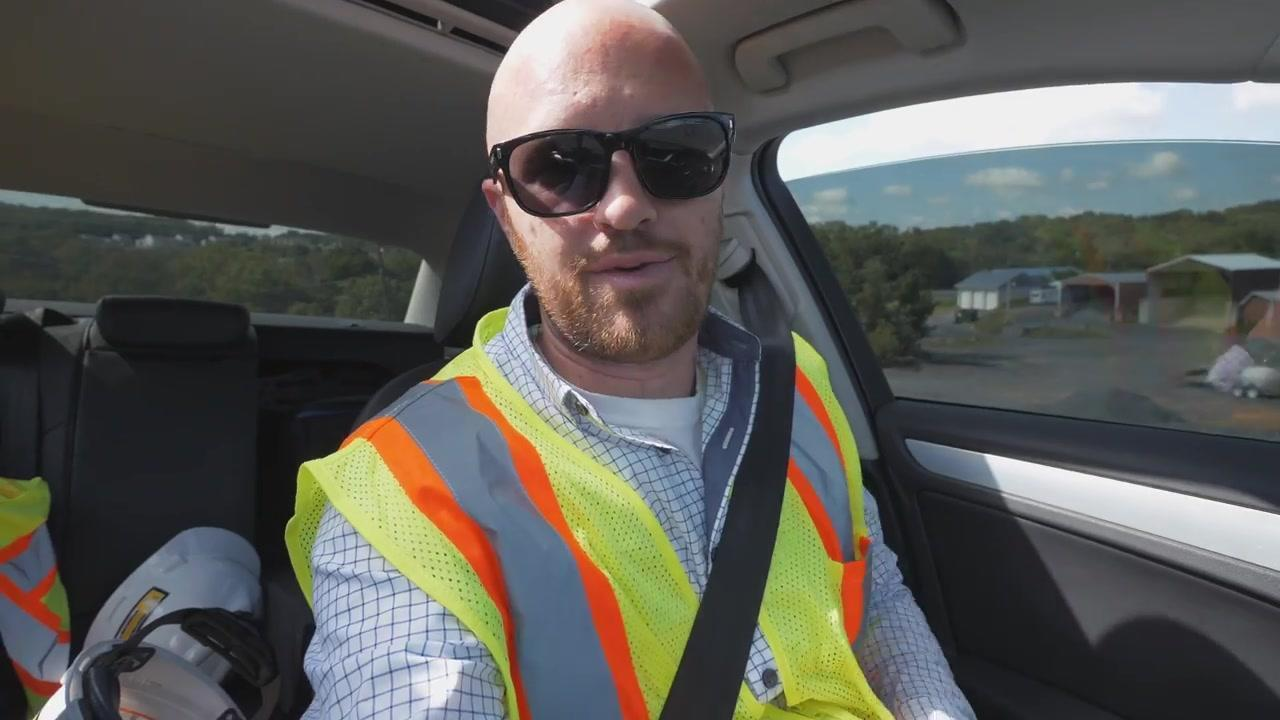vest: (279, 304, 897, 718), (0, 474, 79, 719)
